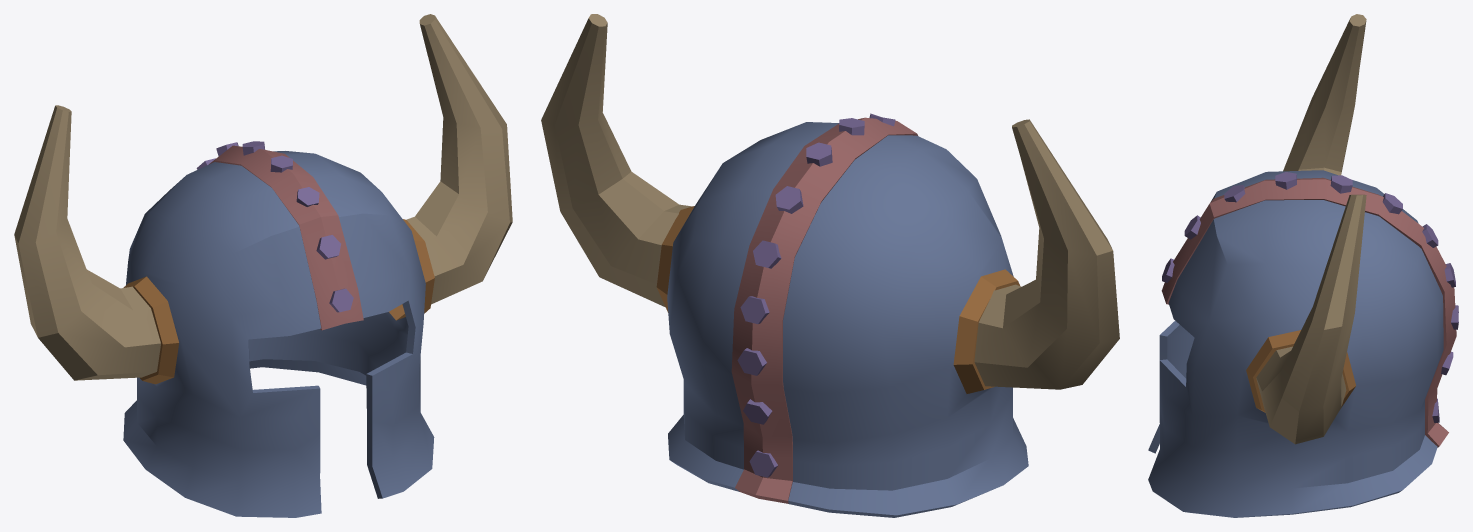
Rendered from VikHelm.fbx.
3 renders of one model, left to right at view 1: azimuth 30°, elevation 25°; view 2: azimuth 150°, elevation 25°; view 3: azimuth 270°, elevation 25°, orthographic. The views are drawn at different scales.
Parts seen in each view (by area): view 1: Helm1; view 2: Helm1; view 3: Helm1.
Boxes of the visible parts, left/top/right/bottom form: Helm1: left=14, top=14, right=512, bottom=517; Helm1: left=541, top=14, right=1119, bottom=517; Helm1: left=1148, top=14, right=1458, bottom=517.
Bounding box in the file's own units: 114 × 82.41 × 63.81.
